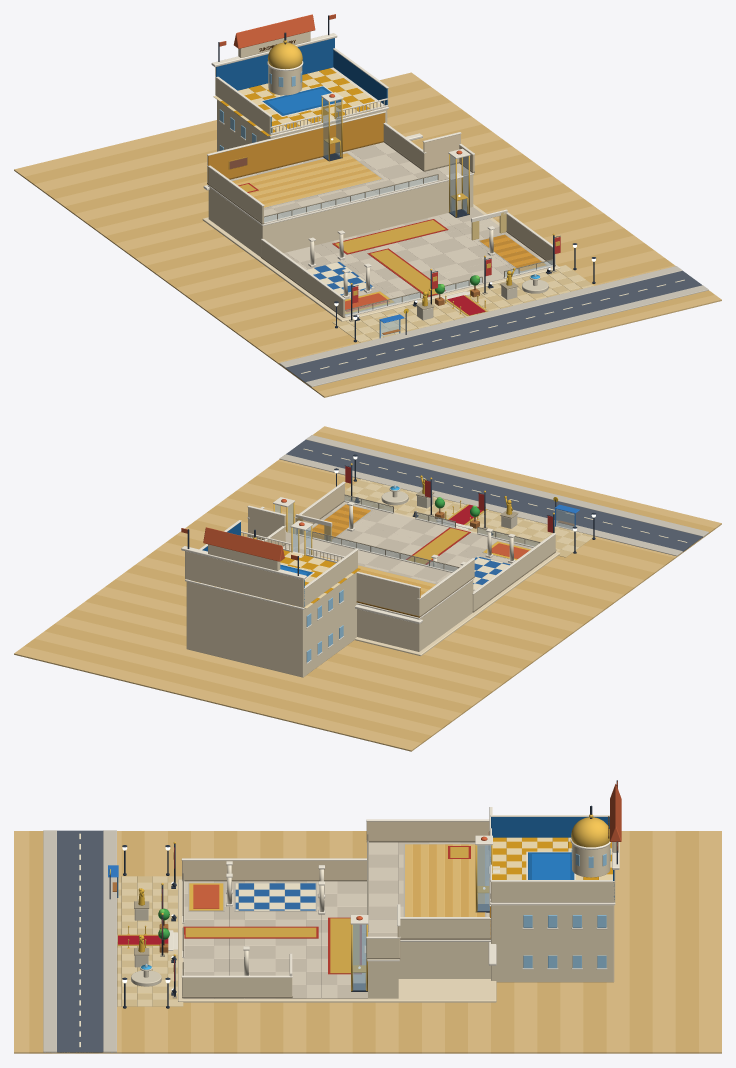
File: shell.glb
3 views of the same model, one above another, from view 1: azimuth 30°, elevation 25°; view 2: azimuth 150°, elevation 25°; view 3: azimuth 270°, elevation 25° (orthographic). The views are drawn at different scales.
Visible parts, largest first — view 1: grounds, floor_floor_1, building, floor_sun_terrace, crown, lift_floor_1, grand_2, lift_sun_terrace, dome, grand_4, grand_3; view 2: grounds, floor_sun_terrace, building, floor_floor_1, crown, grand_2, grand_4, lift_sun_terrace; view 3: grounds, building, floor_floor_1, floor_sun_terrace, crown, lift_sun_terrace, lift_floor_1, dome, grand_4, grand_2, grand_3.
Boxes of the visible parts, x1,y1,x2,y2 form: grounds: [14, 72, 721, 397]; floor_floor_1: [207, 111, 474, 256]; building: [202, 204, 560, 321]; floor_sun_terrace: [213, 38, 388, 151]; crown: [203, 14, 422, 190]; lift_floor_1: [446, 148, 470, 217]; grand_2: [349, 233, 560, 321]; lift_sun_terrace: [320, 92, 343, 161]; dome: [267, 42, 302, 69]; grand_4: [416, 268, 518, 320]; grand_3: [356, 267, 551, 320]; grounds: [14, 426, 721, 751]; floor_sun_terrace: [185, 520, 360, 677]; building: [294, 481, 560, 656]; floor_floor_1: [247, 505, 474, 651]; crown: [181, 527, 422, 624]; grand_2: [345, 463, 556, 550]; grand_4: [416, 475, 518, 528]; lift_sun_terrace: [290, 520, 312, 557]; grounds: [14, 830, 721, 1053]; building: [168, 858, 496, 1002]; floor_floor_1: [366, 807, 492, 998]; floor_sun_terrace: [490, 815, 615, 982]; crown: [488, 780, 621, 965]; lift_sun_terrace: [475, 835, 499, 912]; lift_floor_1: [350, 915, 368, 991]; dome: [571, 817, 609, 847]; grand_4: [134, 888, 149, 967]; grand_2: [158, 841, 176, 998]; grand_3: [118, 881, 176, 995].
Size of the model in its own units: 34 by 10.53 by 46.
